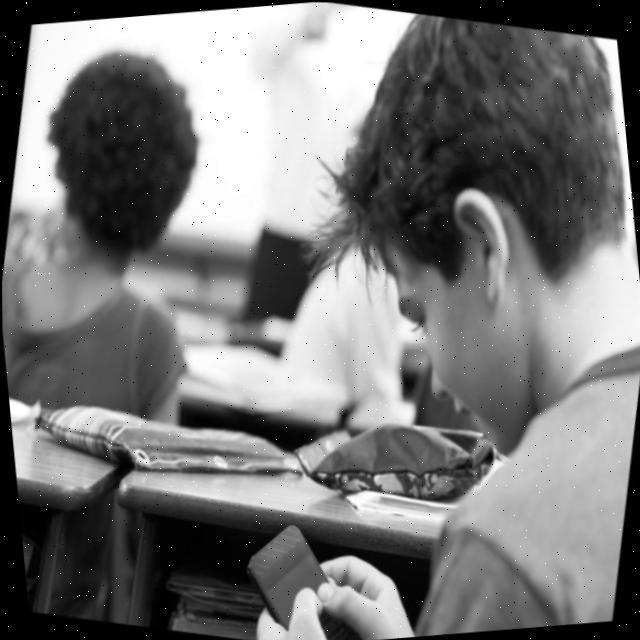phone: (227, 505, 390, 640)
